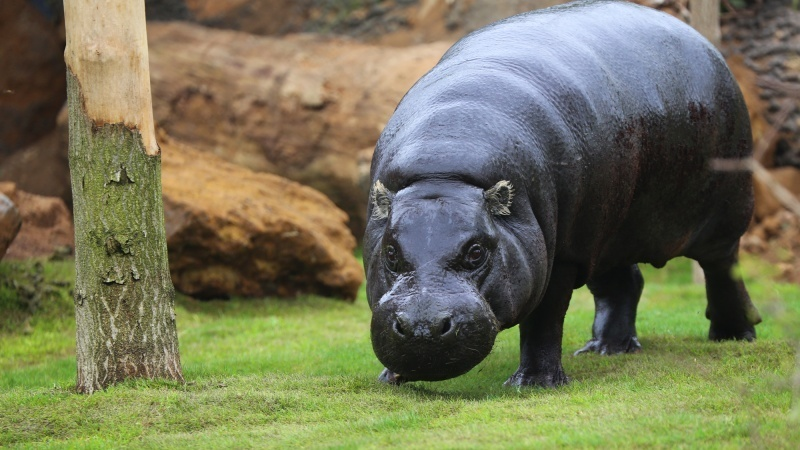hipopotamo: (338, 0, 758, 406)
